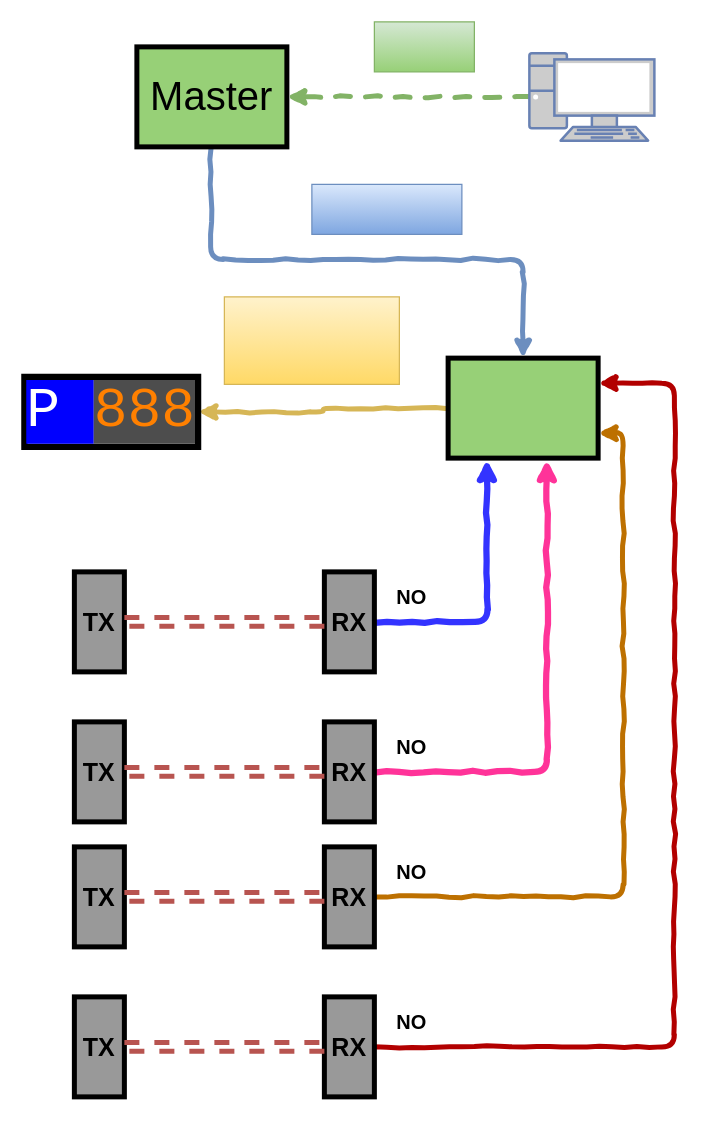
Image size: 709x1121. Some labels were removed from this diagram. Here are the shapes that lost their labels. From the top down, the box of each, then its label:
(373, 21, 474, 72): USB
(311, 183, 462, 234): RS485
(223, 296, 399, 384): RS485 MEANDR
(445, 355, 600, 460): Slave 1
